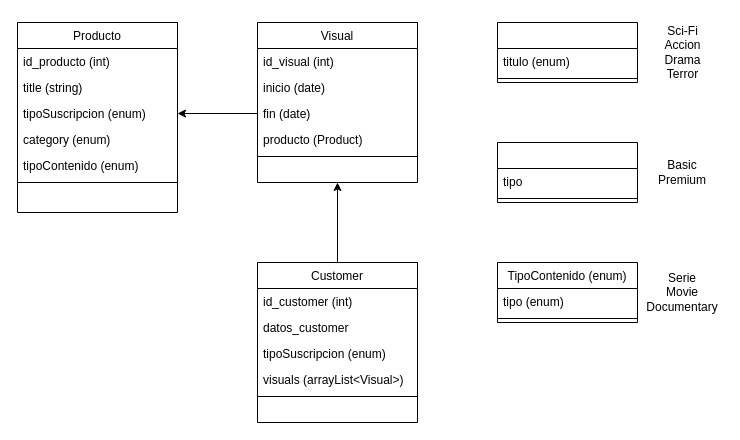
The diagram is 740 pixels wide and 440 high, and some of its shapes have lost their labels. The shapes that lost their labels are listed below. From the top down, each one's box as (x1, y1, x2, y2) in pixels, then its label:
(496, 22, 638, 82): Categoría (enum)
(496, 142, 638, 202): Suscripcion (enum)
